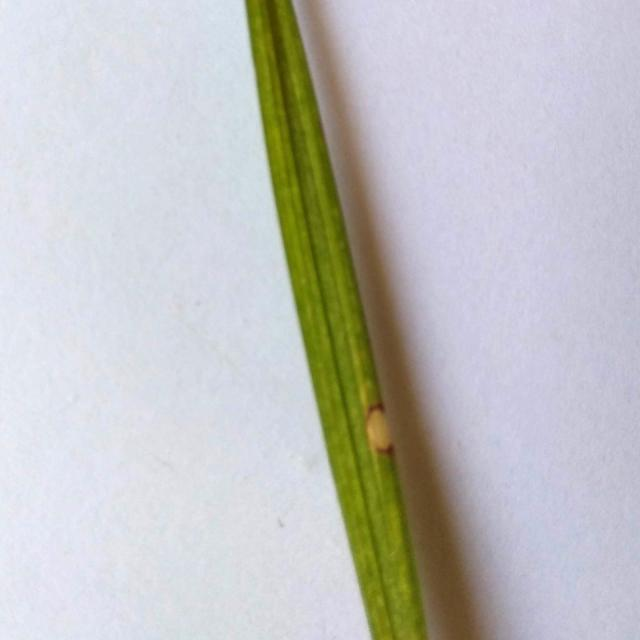Leaf blast: (240, 3, 534, 640)
